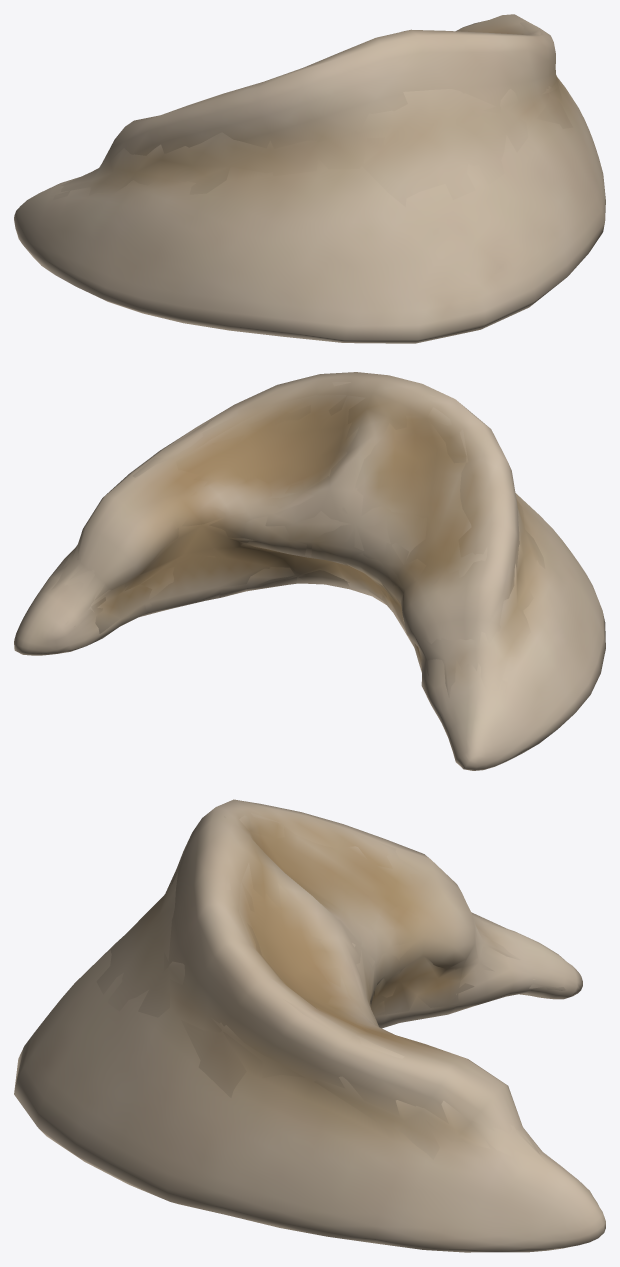
The model's file is BR 3rd Phalanx.fbx.
The picture shows the model from 3 angles, top to bottom: view 1: azimuth 30°, elevation 25°; view 2: azimuth 150°, elevation 25°; view 3: azimuth 270°, elevation 25°; orthographic projection. The views are drawn at different scales.
Parts seen in each view (by area): view 1: BR 3rd Phalanx, BR 3rd Phalanx low; view 2: BR 3rd Phalanx, BR 3rd Phalanx low; view 3: BR 3rd Phalanx, BR 3rd Phalanx low.
Boxes of the visible parts, box(x1,y1,x2,y2) form: BR 3rd Phalanx: box(14, 14, 605, 343); BR 3rd Phalanx low: box(53, 22, 573, 206); BR 3rd Phalanx: box(14, 372, 605, 770); BR 3rd Phalanx low: box(51, 382, 545, 750); BR 3rd Phalanx: box(14, 799, 605, 1252); BR 3rd Phalanx low: box(96, 813, 565, 1242).
Bounding box in the file's own units: 9.54 × 4.35 × 7.98.
1 material, 1 textured.
